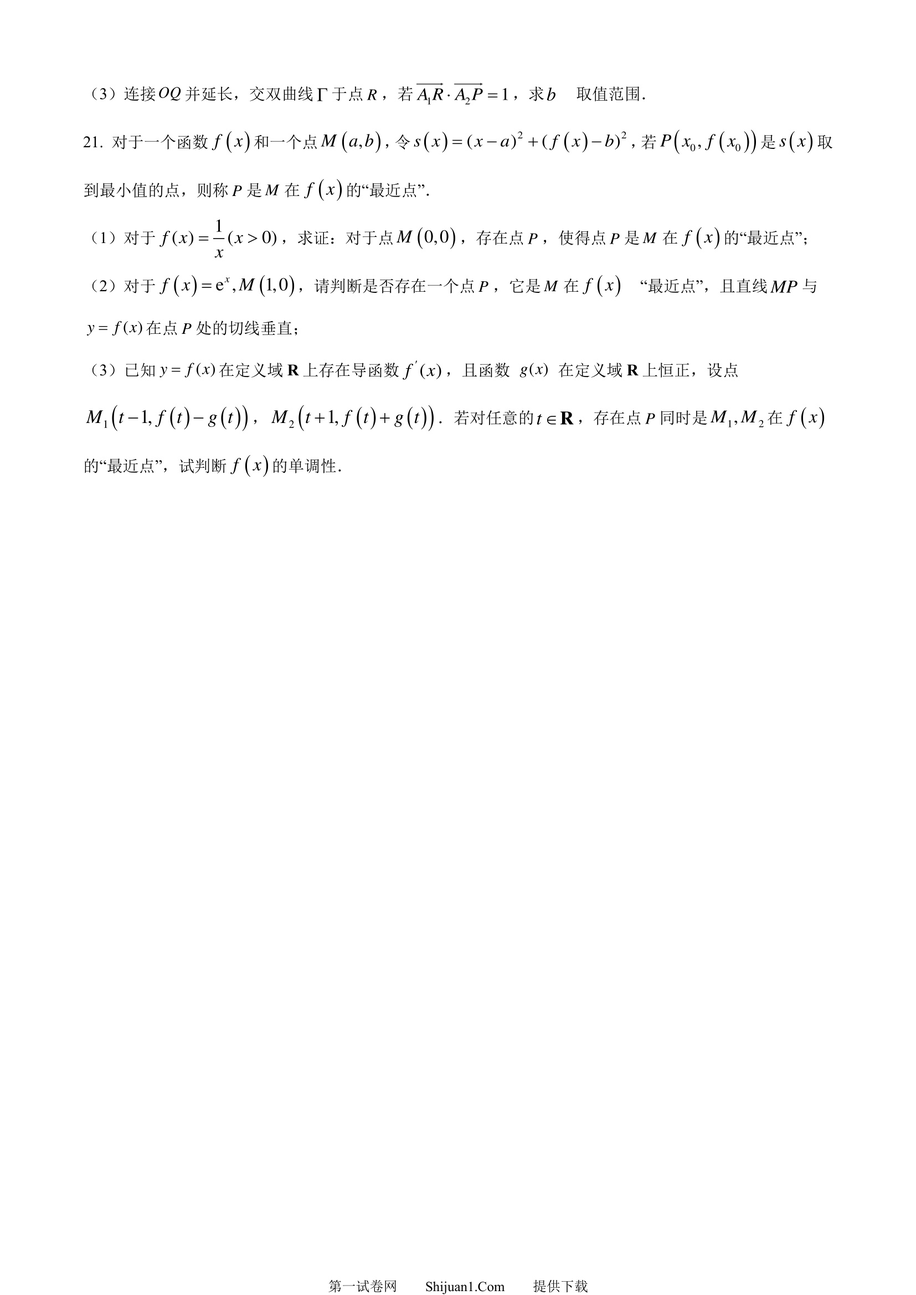question: (61, 119, 848, 478), (61, 81, 670, 117)
